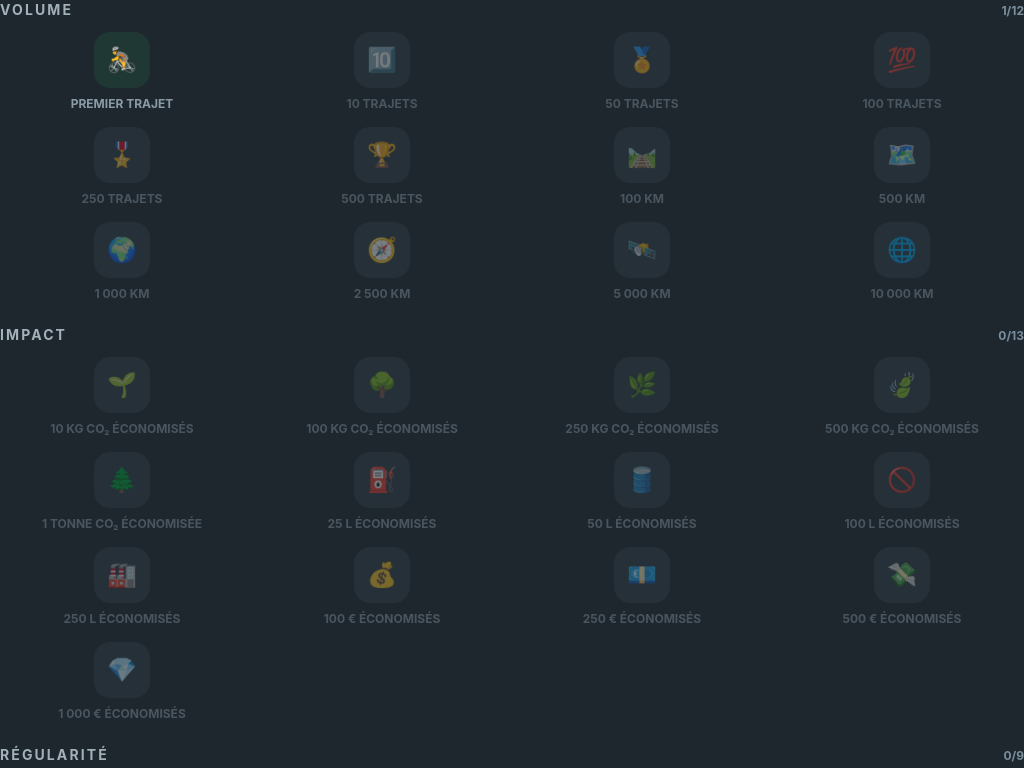
it: BadgeGrid › explique aussi un badge déjà débloqué
Click the button "🚴 Premier trajet".
click(122, 72)  # box [0,32,244,111]
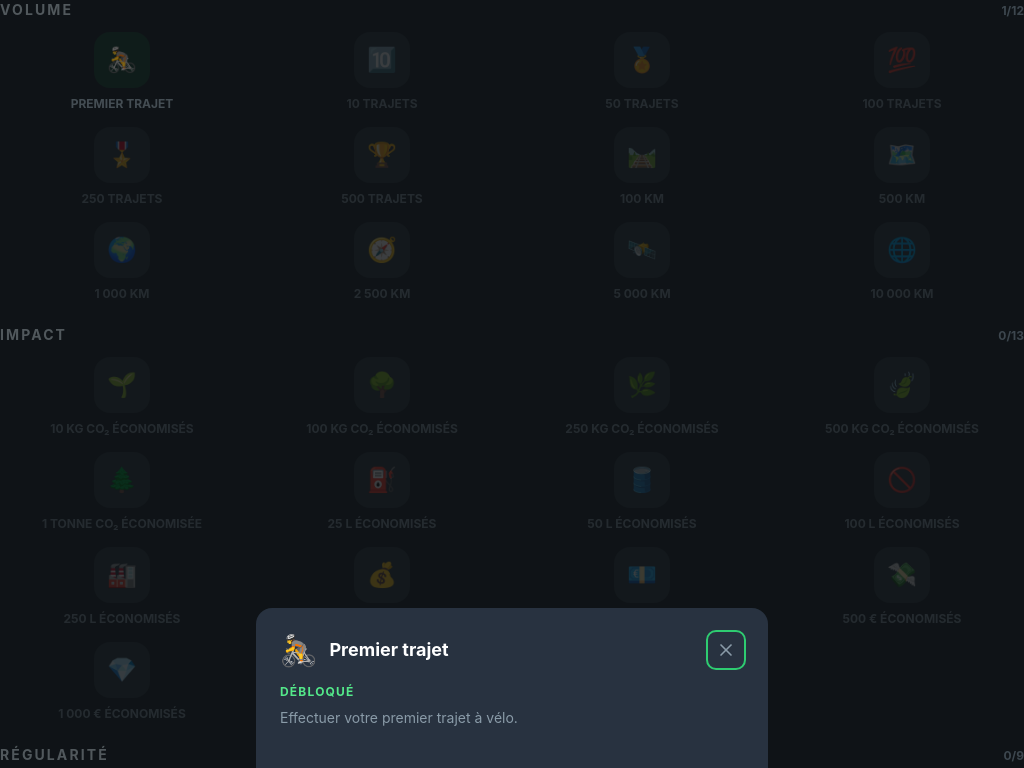
Result: the text "Effectuer votre premier trajet à vélo." is shown at [280,709,518,726]
Result: the text "Débloqué" is shown at [280,684,355,699]
Click the button named "Fermer".
click(726, 650)  # box [708,632,744,668]
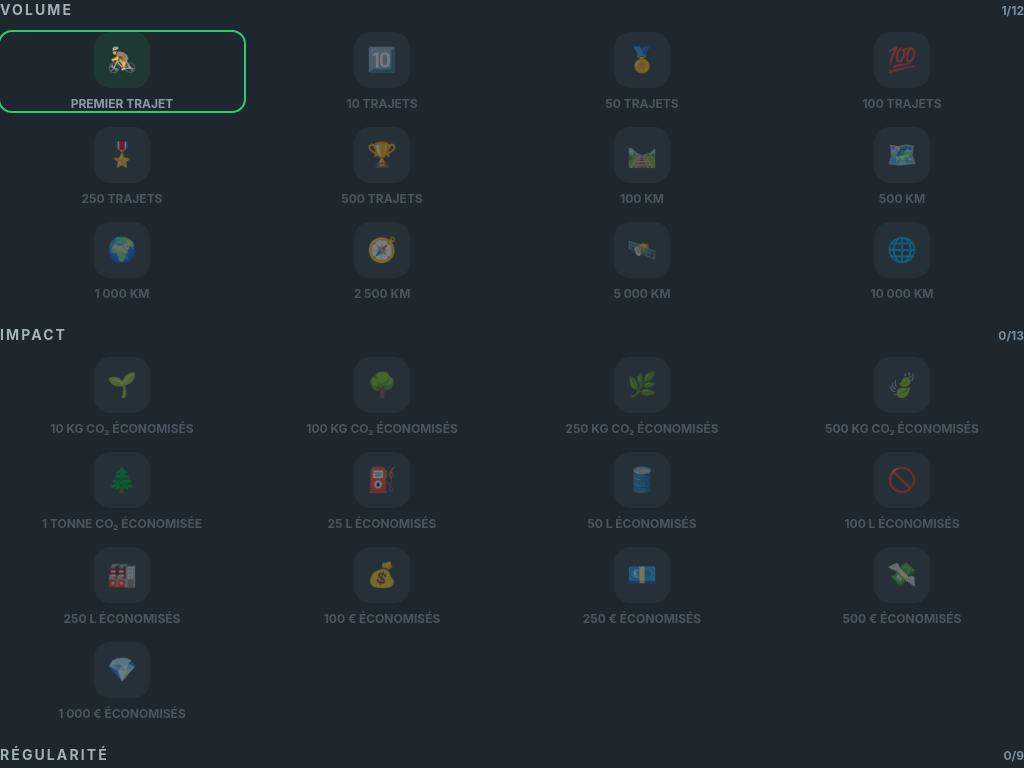
Result: the dialog is gone
